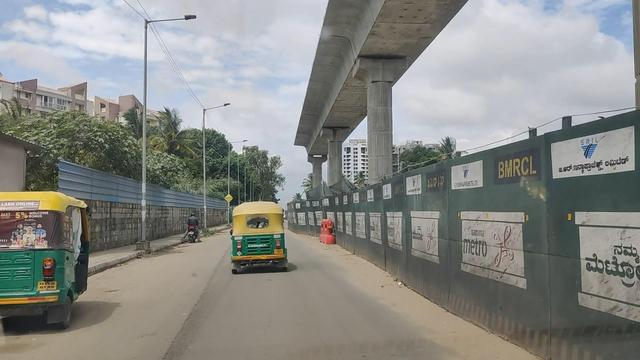LMV: (0, 188, 96, 335), (223, 198, 290, 280)
